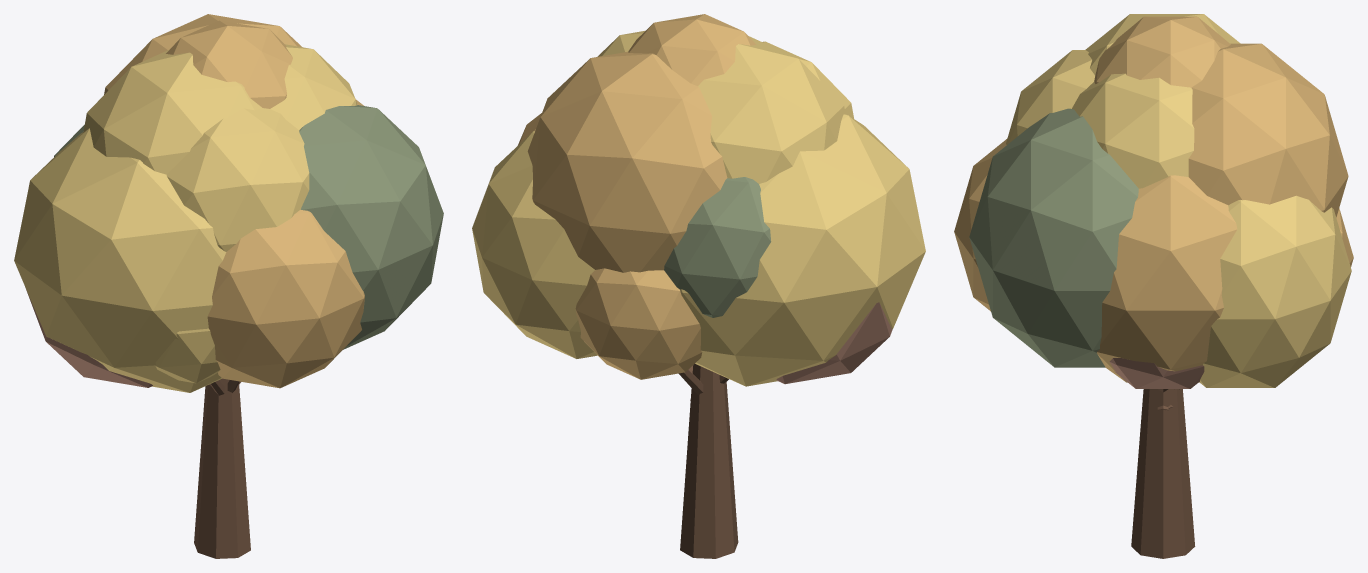
Rendered from tree_reference_oak_tall_01.fbx.
The picture shows the model from 3 angles, left to right: view 1: azimuth 30°, elevation 25°; view 2: azimuth 150°, elevation 25°; view 3: azimuth 270°, elevation 25°; orthographic projection. The views are drawn at different scales.
Parts seen in each view (by area): view 1: leaf_reference_middle_west.001, leaf_reference_outer_south_east.001, leaf_reference_outer_south.001, leaf_reference_outer_crown_front.001, leaf_reference_upper_west.001, trunk_reference_oak.001, leaf_reference_top_peak.001, leaf_reference_upper_east.001, leaf_reference_outer_south_west.001, leaf_reference_outer_crown_back.001, leaf_reference_outer_west.001; view 2: leaf_reference_middle_west.001, leaf_reference_outer_crown_back.001, leaf_reference_outer_north_east.001, leaf_reference_upper_west.001, leaf_reference_outer_north.001, leaf_reference_outer_north_west.001, trunk_reference_oak.001, leaf_reference_top_peak.001, leaf_reference_outer_west.001, leaf_reference_outer_crown_front.001; view 3: leaf_reference_outer_south_east.001, leaf_reference_outer_north_east.001, leaf_reference_outer_crown_back.001, leaf_reference_middle_east.001, leaf_reference_upper_east.001, trunk_reference_oak.001, leaf_reference_top_peak.001, leaf_reference_outer_crown_front.001, leaf_reference_outer_south.001, leaf_reference_outer_east.001, leaf_reference_upper_west.001.
Part boxes in pixels (x1,y1,x2,y2): leaf_reference_middle_west.001: (14, 128, 226, 392); leaf_reference_outer_south_east.001: (299, 105, 443, 349); leaf_reference_outer_south.001: (207, 209, 364, 388); leaf_reference_outer_crown_front.001: (166, 108, 309, 251); leaf_reference_upper_west.001: (83, 49, 261, 174); trunk_reference_oak.001: (194, 378, 250, 558); leaf_reference_top_peak.001: (166, 20, 292, 108); leaf_reference_upper_east.001: (270, 44, 357, 129); leaf_reference_outer_south_west.001: (155, 328, 220, 383); leaf_reference_outer_crown_back.001: (104, 14, 302, 94); leaf_reference_outer_west.001: (26, 290, 152, 387); leaf_reference_middle_west.001: (680, 114, 925, 386); leaf_reference_outer_crown_back.001: (527, 51, 727, 272); leaf_reference_outer_north_east.001: (472, 131, 597, 358); leaf_reference_upper_west.001: (698, 36, 845, 183); leaf_reference_outer_north.001: (575, 268, 702, 379); leaf_reference_outer_north_west.001: (664, 177, 771, 317); trunk_reference_oak.001: (680, 364, 738, 558); leaf_reference_top_peak.001: (628, 14, 756, 85); leaf_reference_outer_west.001: (776, 302, 892, 384); leaf_reference_outer_crown_front.001: (762, 41, 853, 118); leaf_reference_outer_south_east.001: (969, 108, 1138, 367); leaf_reference_outer_north_east.001: (1199, 195, 1351, 387); leaf_reference_outer_crown_back.001: (1188, 43, 1348, 217); leaf_reference_middle_east.001: (1097, 175, 1237, 382); leaf_reference_upper_east.001: (1072, 73, 1194, 188); trunk_reference_oak.001: (1131, 389, 1195, 558); leaf_reference_top_peak.001: (1094, 16, 1230, 87); leaf_reference_outer_crown_front.001: (1006, 50, 1094, 144); leaf_reference_outer_south.001: (954, 139, 1006, 311); leaf_reference_outer_east.001: (1109, 358, 1204, 388); leaf_reference_upper_west.001: (1085, 14, 1240, 75).
Size of the model in its own units: 466 by 623 by 425.
